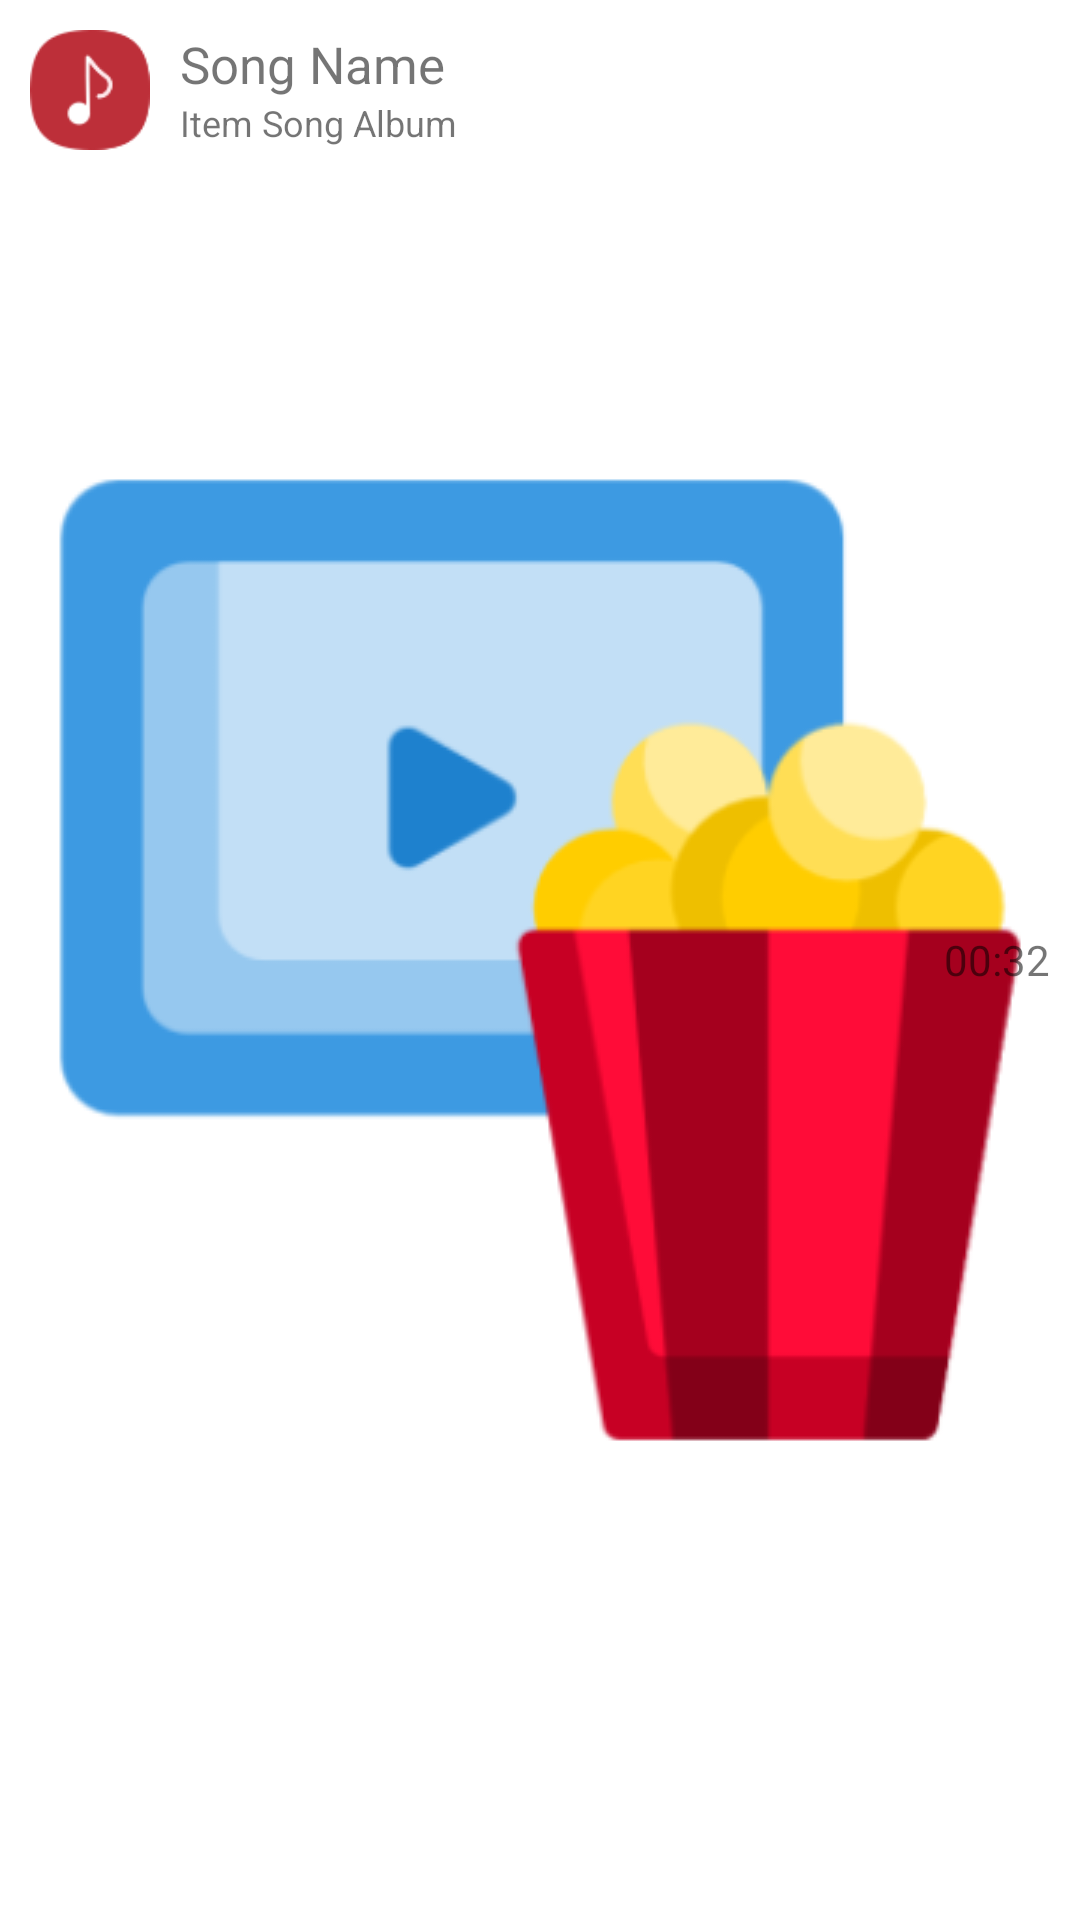

Icon click points for this 1080×1920 phone screenshot, format (x=x, y=y):
musicplayer: (x=90, y=90)
